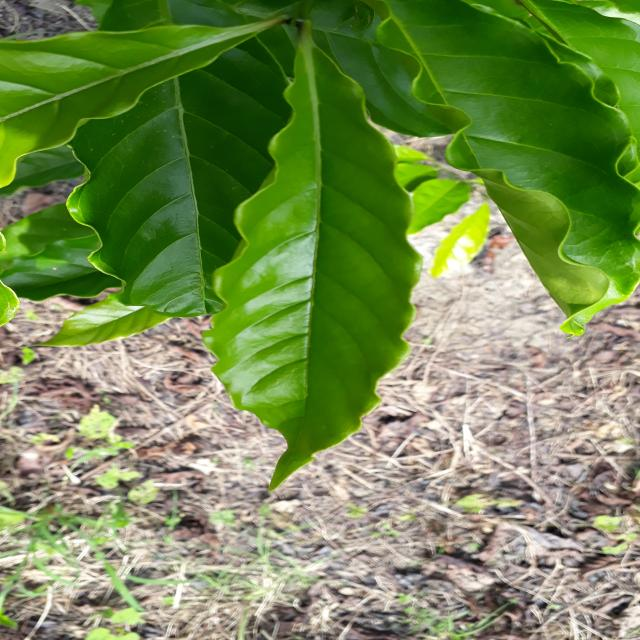Sanas: (203, 34, 421, 489)
